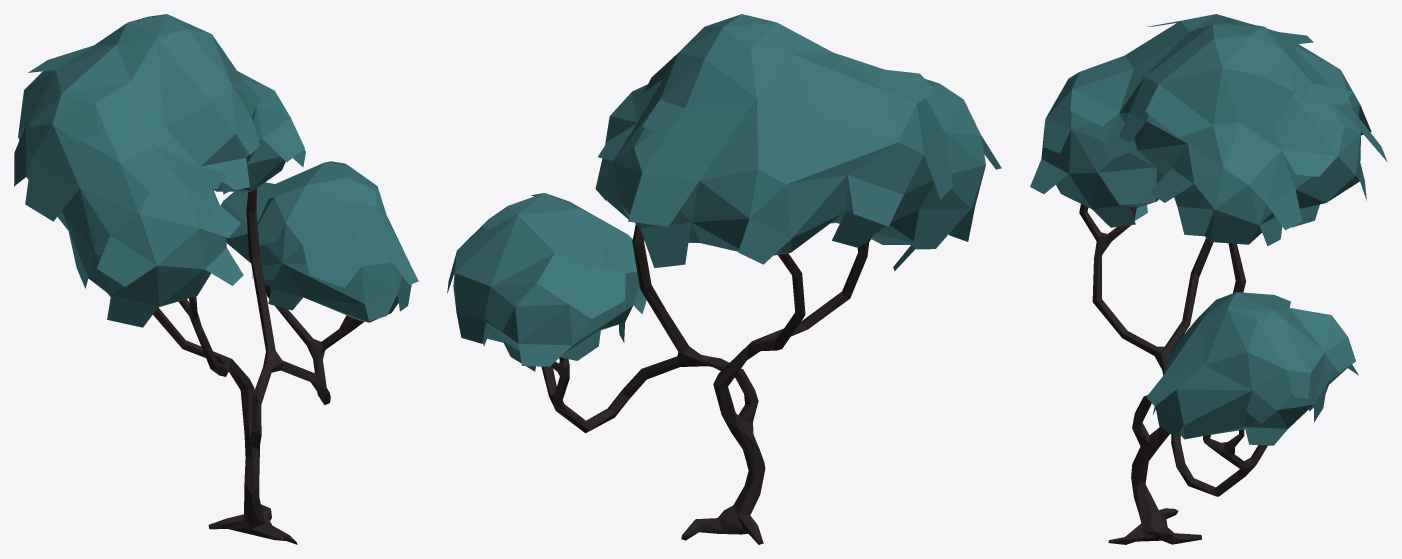
Rendered from Tree_Forest_Turquoise_01.glb.
The picture shows the model from 3 angles, left to right: view 1: azimuth 30°, elevation 25°; view 2: azimuth 150°, elevation 25°; view 3: azimuth 270°, elevation 25°; orthographic projection. The views are drawn at different scales.
Visible parts, largest first — view 1: Tree_Forest_Turquoise_01; view 2: Tree_Forest_Turquoise_01; view 3: Tree_Forest_Turquoise_01.
Part boxes in pixels (x1,y1,x2,y2): Tree_Forest_Turquoise_01: (14, 14, 418, 544); Tree_Forest_Turquoise_01: (447, 14, 1001, 544); Tree_Forest_Turquoise_01: (1030, 14, 1387, 544).
Size of what is drawn, in the model's own units: 7.95 by 9.58 by 6.44.
Materials: 1 (1 with a texture image).
